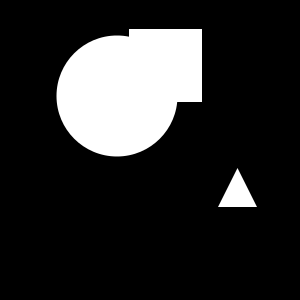circle: (129, 29, 202, 102)
rectangle: (57, 36, 178, 157)
triangle: (218, 168, 257, 207)
